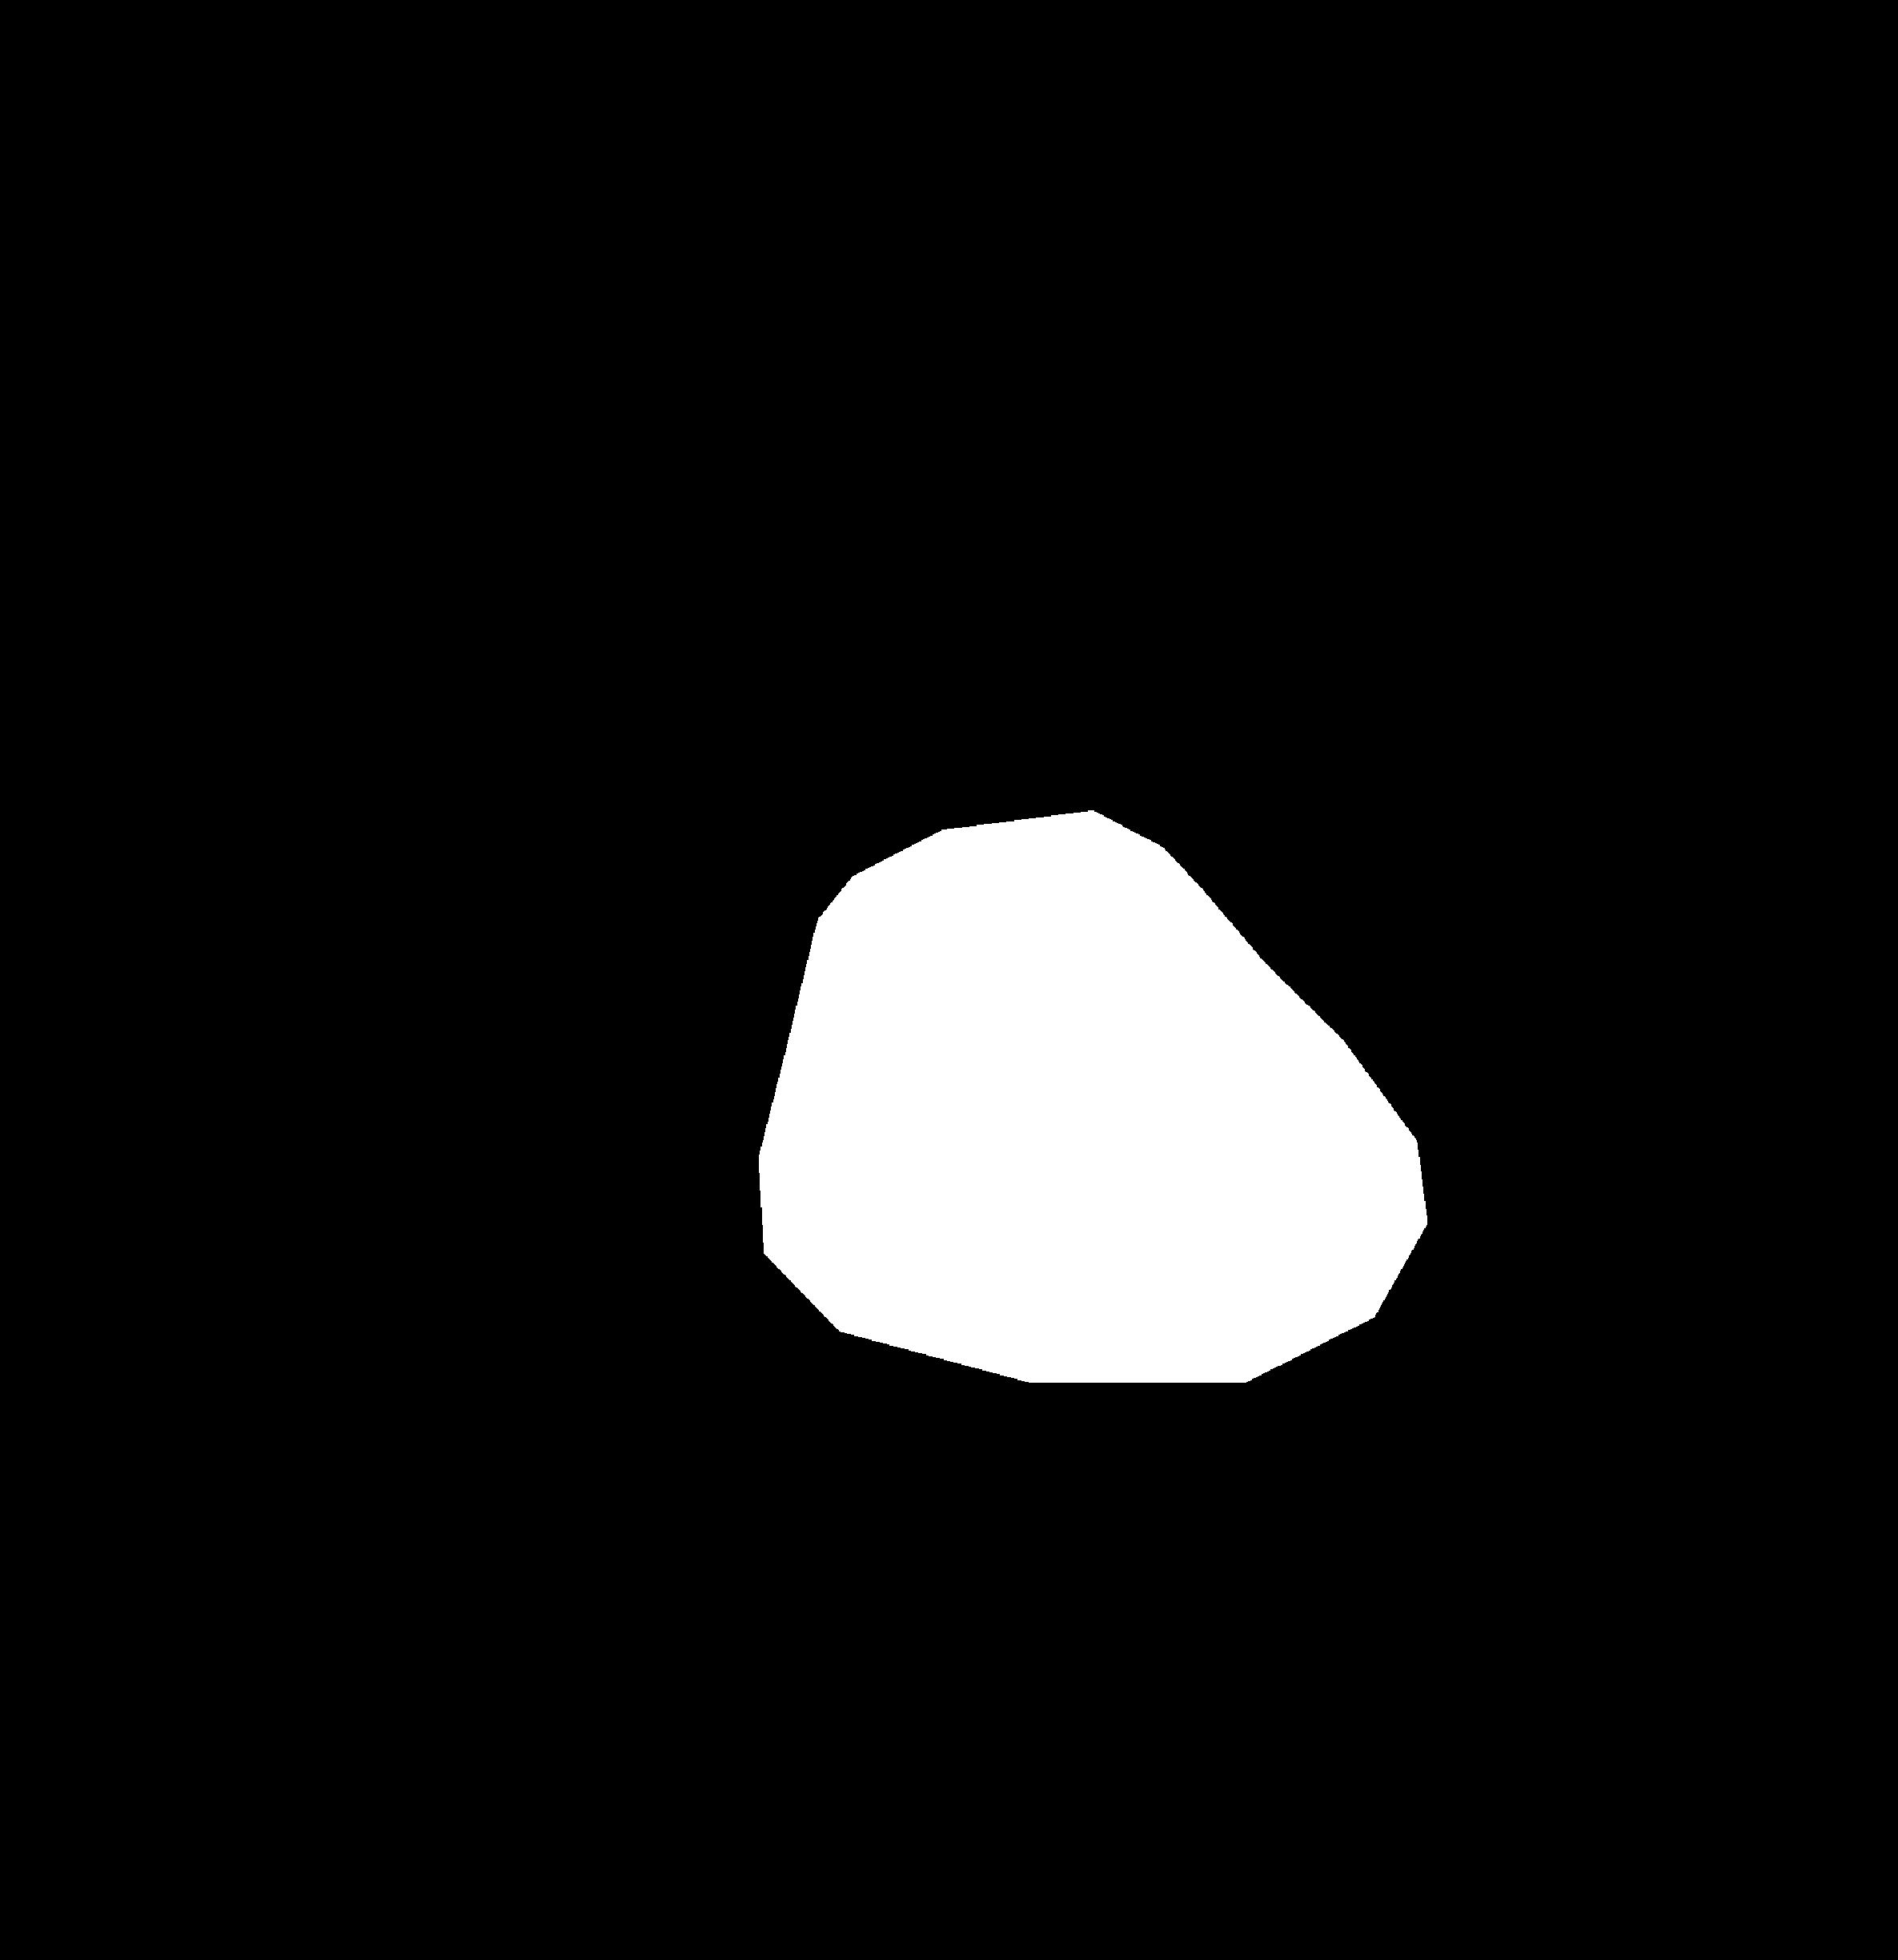heart: (749, 913, 1457, 1367)
left_lung: (255, 142, 822, 1372)
right_lung: (1036, 173, 1669, 1379)
